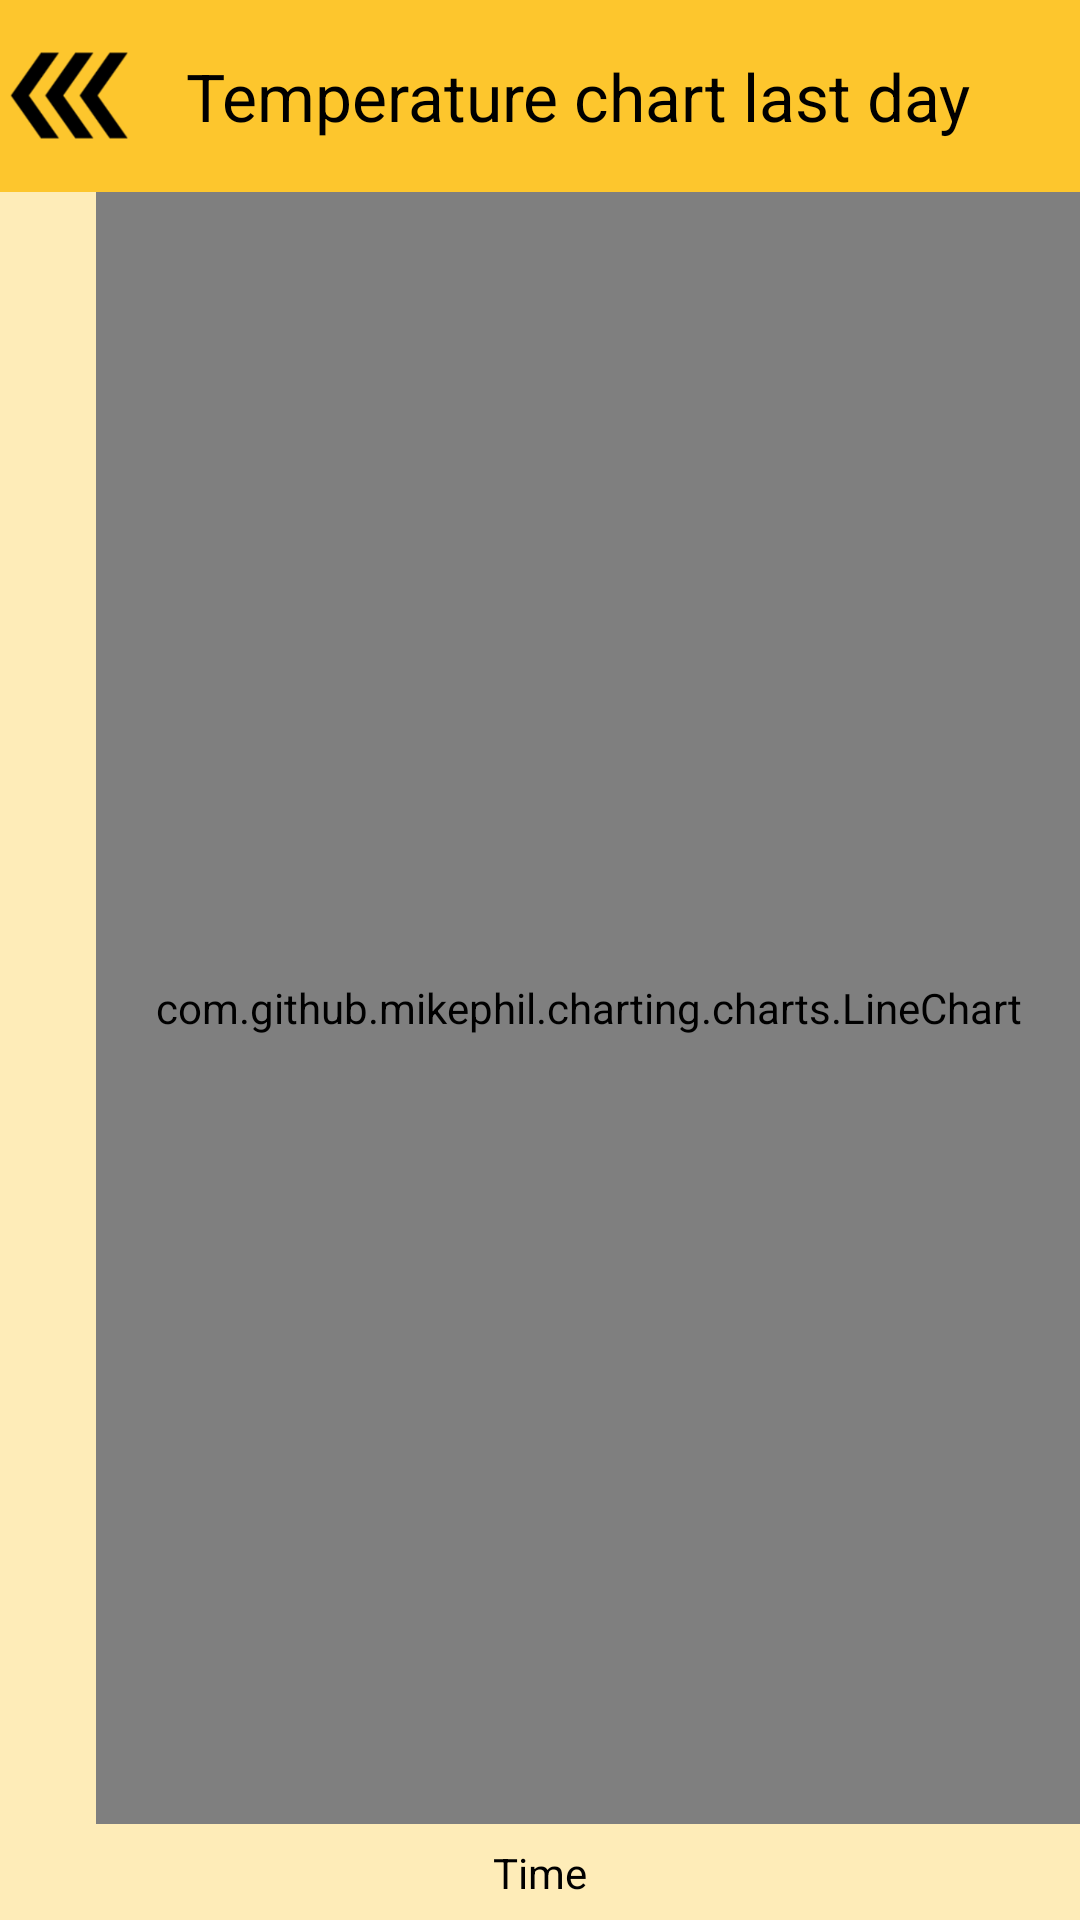

Named icons in this screenshot (1080w x 1920h) and their bounding boxes, (x1, y1, x2, y2):
back: (10, 52, 128, 139)
